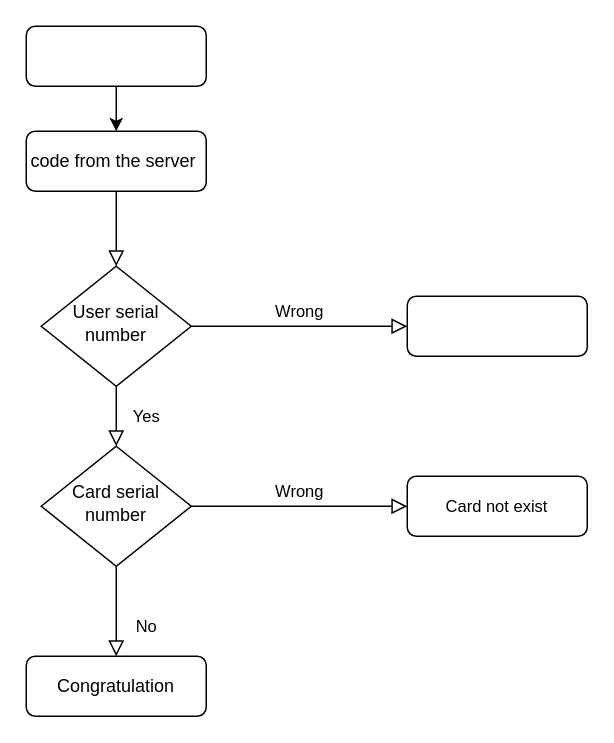
The diagram is 614 pixels wide and 743 high, and some of its shapes have lost their labels. The centre of each missing label's shape, as x and y in pixels:
Connect to server: the point at 115,55
User not exist: the point at 496,325
